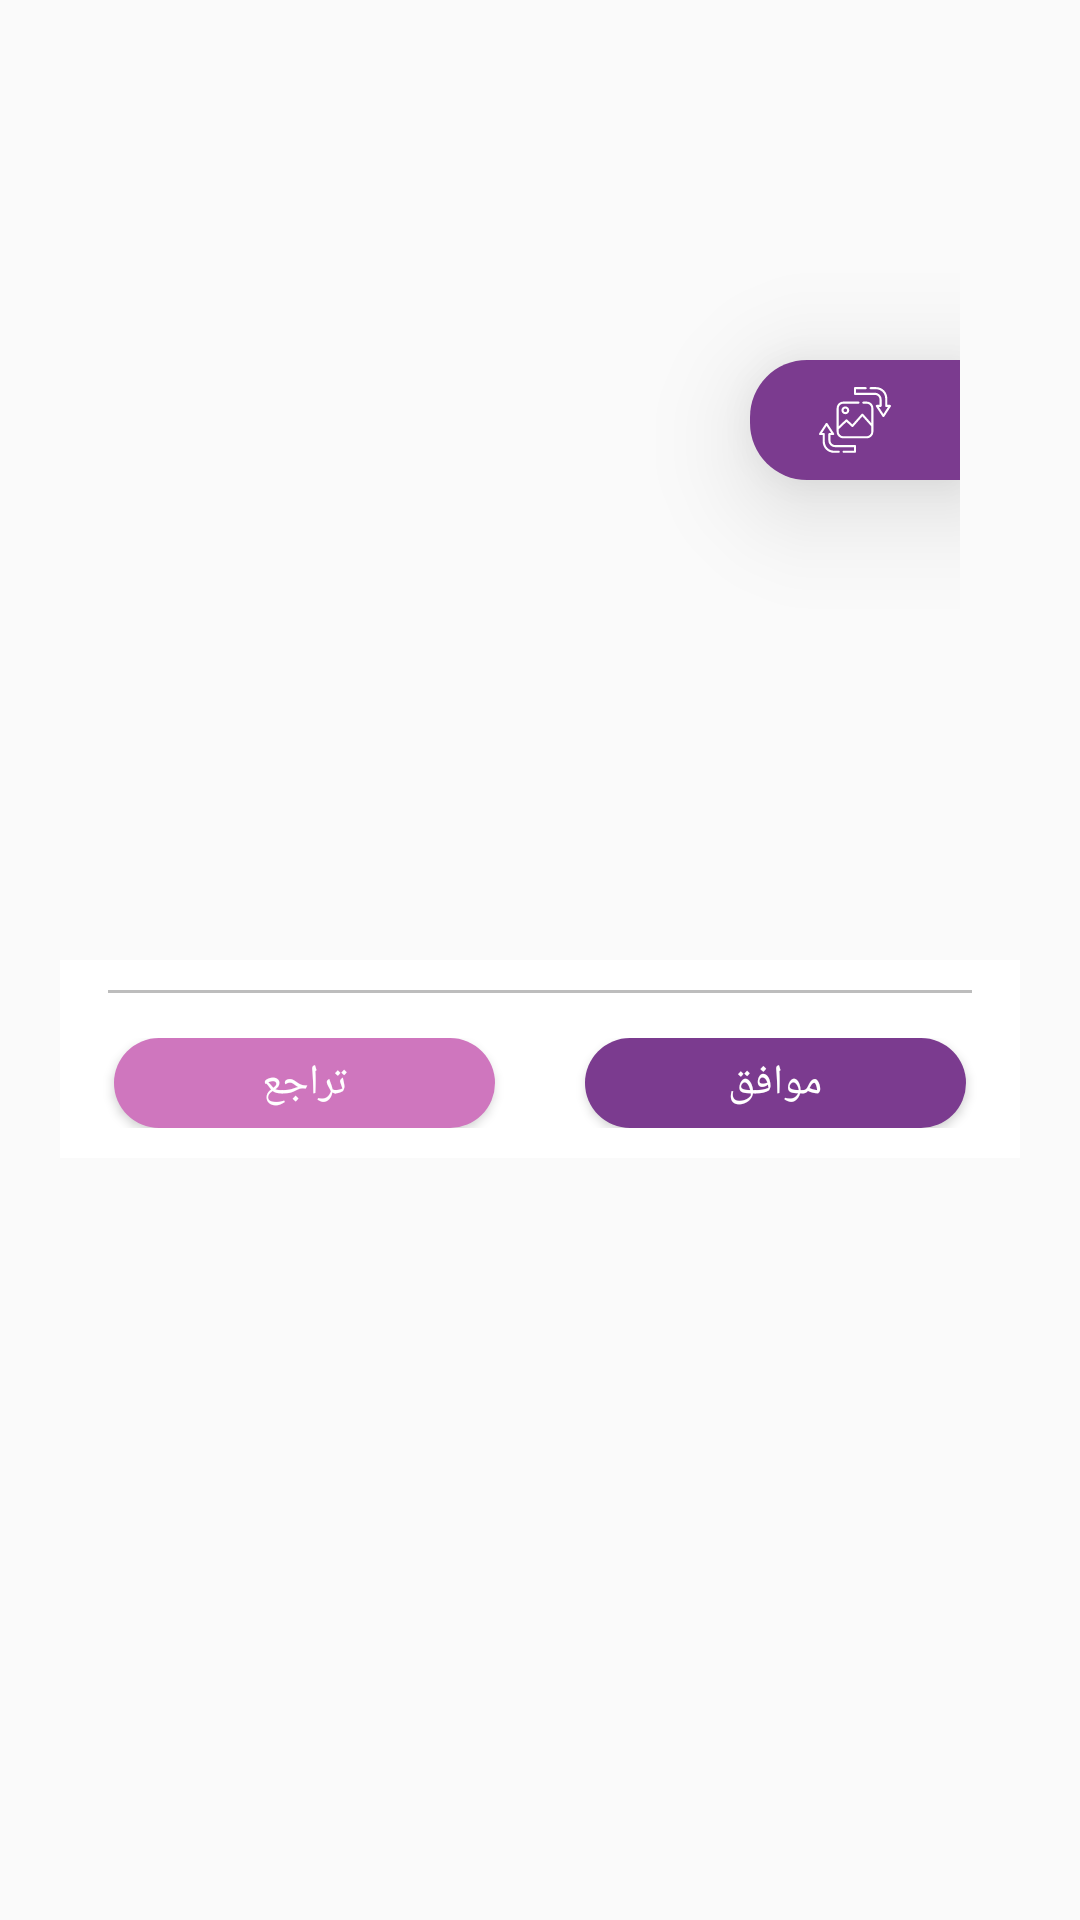

Icon bounding boxes for this 1080px×1920px phone screenshot, format bbox=(x1, y1, x2, y2):
rotate: bbox=(819, 387, 891, 453)
